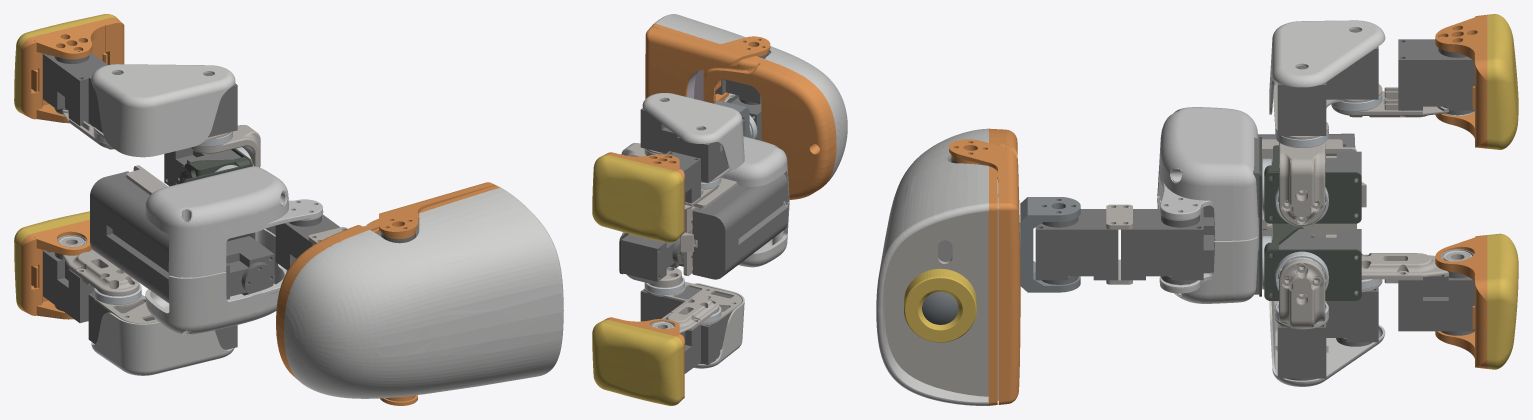
The model's file is microduck_original.glb.
3 renders of one model, left to right at view 1: azimuth 30°, elevation 25°; view 2: azimuth 150°, elevation 25°; view 3: azimuth 270°, elevation 25°, orthographic. The views are drawn at different scales.
Parts seen in each view (by area): view 1: stock_45, stock_9, stock_17, stock_7, stock_1, stock_65, stock_24, stock_29, stock_8, stock_27, stock_67, stock_52 (+15 smaller); view 2: stock_52, stock_7, stock_25, stock_71, stock_51, stock_17, stock_45, stock_57, stock_9, stock_68, stock_18, stock_5 (+19 smaller); view 3: stock_41, stock_9, stock_45, stock_51, stock_17, stock_31, stock_32, stock_24, stock_67, stock_71, stock_25, stock_1 (+26 smaller).
Part boxes in pixels (<box>): stock_45: <box>284,187,563,398</box>; stock_9: <box>145,166,323,277</box>; stock_17: <box>91,64,235,157</box>; stock_7: <box>90,171,169,303</box>; stock_1: <box>145,229,287,334</box>; stock_65: <box>91,312,234,375</box>; stock_24: <box>43,53,107,125</box>; stock_29: <box>34,23,105,123</box>; stock_8: <box>225,236,274,299</box>; stock_27: <box>21,17,124,119</box>; stock_67: <box>43,250,101,322</box>; stock_52: <box>276,185,500,380</box>; stock_52: <box>651,23,836,199</box>; stock_7: <box>692,174,787,279</box>; stock_25: <box>592,154,683,242</box>; stock_71: <box>592,320,683,405</box>; stock_51: <box>645,27,770,98</box>; stock_17: <box>642,93,744,169</box>; stock_45: <box>654,14,847,184</box>; stock_57: <box>621,234,683,281</box>; stock_9: <box>721,136,789,205</box>; stock_68: <box>653,296,719,333</box>; stock_18: <box>676,128,728,182</box>; stock_5: <box>680,178,737,275</box>; stock_41: <box>884,211,988,396</box>; stock_9: <box>1157,107,1258,240</box>; stock_45: <box>876,128,988,405</box>; stock_51: <box>949,139,1020,404</box>; stock_17: <box>1269,20,1385,114</box>; stock_31: <box>1121,209,1203,284</box>; stock_32: <box>1035,209,1118,284</box>; stock_24: <box>1398,39,1474,115</box>; stock_67: <box>1398,271,1474,335</box>; stock_71: <box>1487,233,1518,369</box>; stock_25: <box>1487,14,1518,149</box>; stock_1: <box>1157,192,1258,303</box>.
Bounding box in the file's own units: 0.1441 × 0.141 × 0.264.
